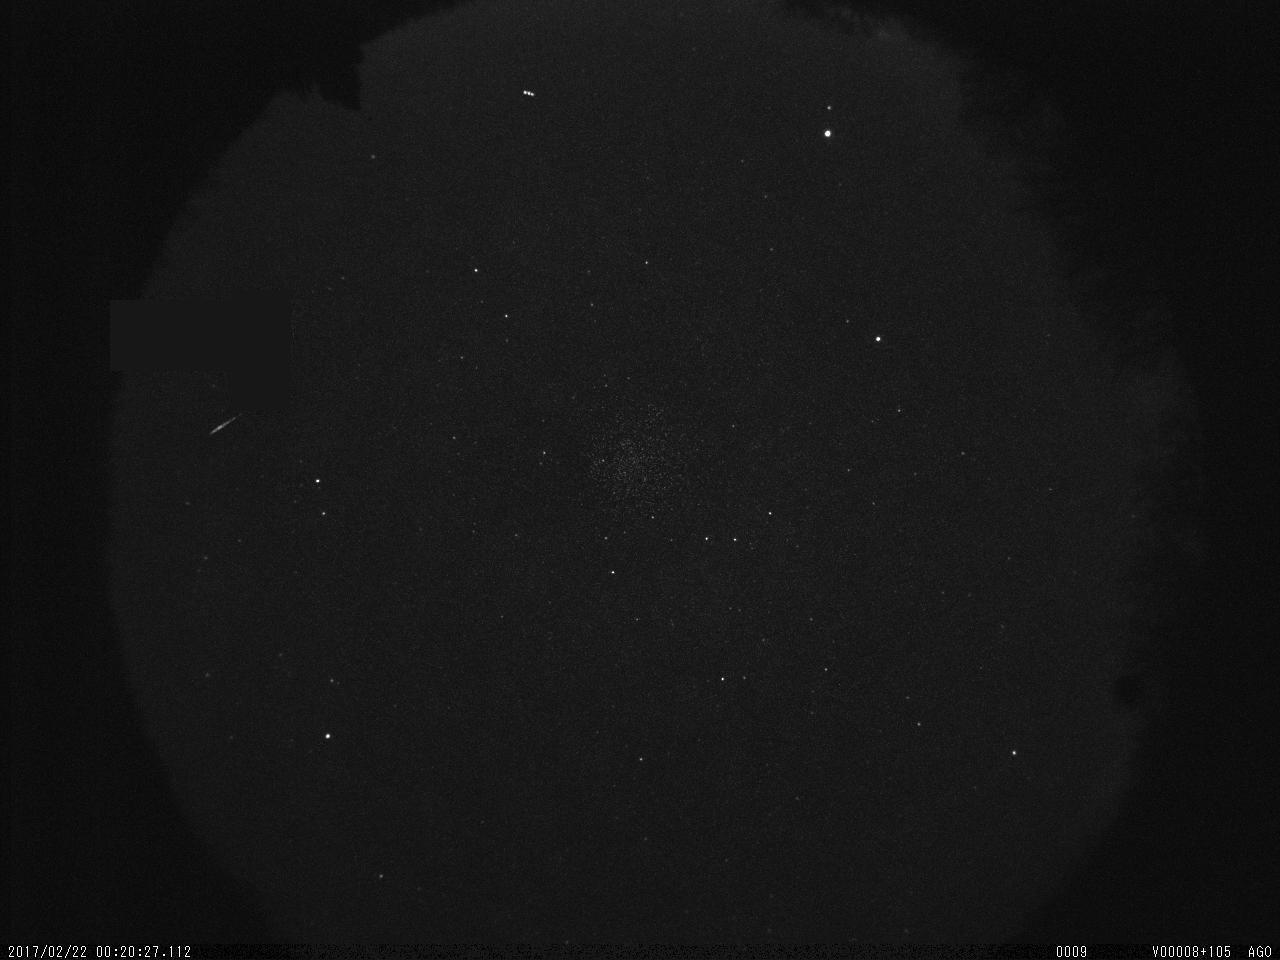meteor: (190, 404, 266, 453)
